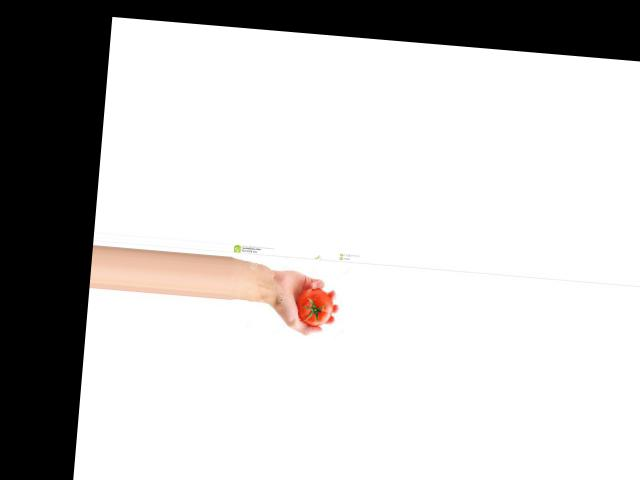tomato: (295, 286, 334, 326)
